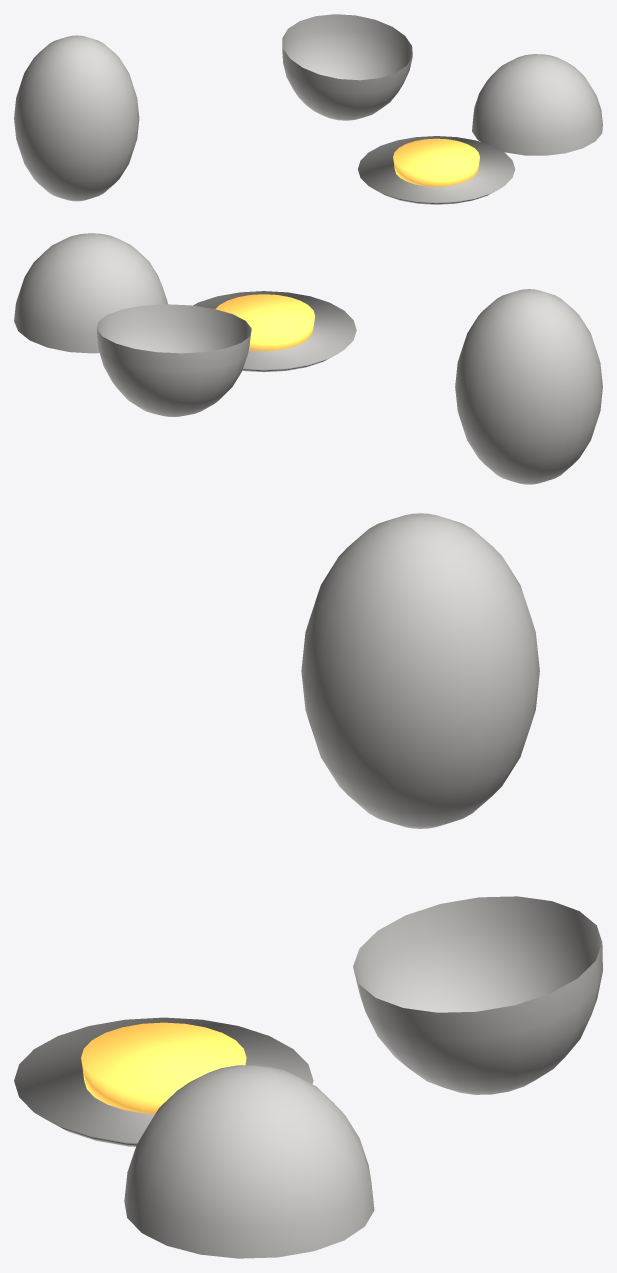
File: egg.glb
The picture shows the model from 3 angles, top to bottom: view 1: azimuth 30°, elevation 25°; view 2: azimuth 150°, elevation 25°; view 3: azimuth 270°, elevation 25°; orthographic projection. The views are drawn at different scales.
Parts seen in each view (by area): view 1: EggWhole, ShellCup, ShellDome, Splat, Yolk; view 2: EggWhole, ShellCup, ShellDome, Splat, Yolk; view 3: EggWhole, ShellCup, ShellDome, Splat, Yolk.
Part boxes in pixels (x1=…): EggWhole: x1=14, y1=35, x2=139, y2=201; ShellCup: x1=282, y1=14, x2=412, y2=120; ShellDome: x1=472, y1=54, x2=602, y2=155; Splat: x1=358, y1=136, x2=515, y2=204; Yolk: x1=393, y1=138, x2=479, y2=186; EggWhole: x1=455, y1=289, x2=602, y2=484; ShellCup: x1=96, y1=304, x2=251, y2=416; ShellDome: x1=14, y1=233, x2=167, y2=353; Splat: x1=193, y1=291, x2=356, y2=372; Yolk: x1=215, y1=294, x2=314, y2=350; EggWhole: x1=301, y1=513, x2=539, y2=828; ShellCup: x1=353, y1=896, x2=602, y2=1094; ShellDome: x1=124, y1=1065, x2=374, y2=1258; Splat: x1=14, y1=1017, x2=313, y2=1146; Yolk: x1=81, y1=1022, x2=246, y2=1113.
Size of the model in its own units: 0.8113 by 0.2318 by 0.4128.
